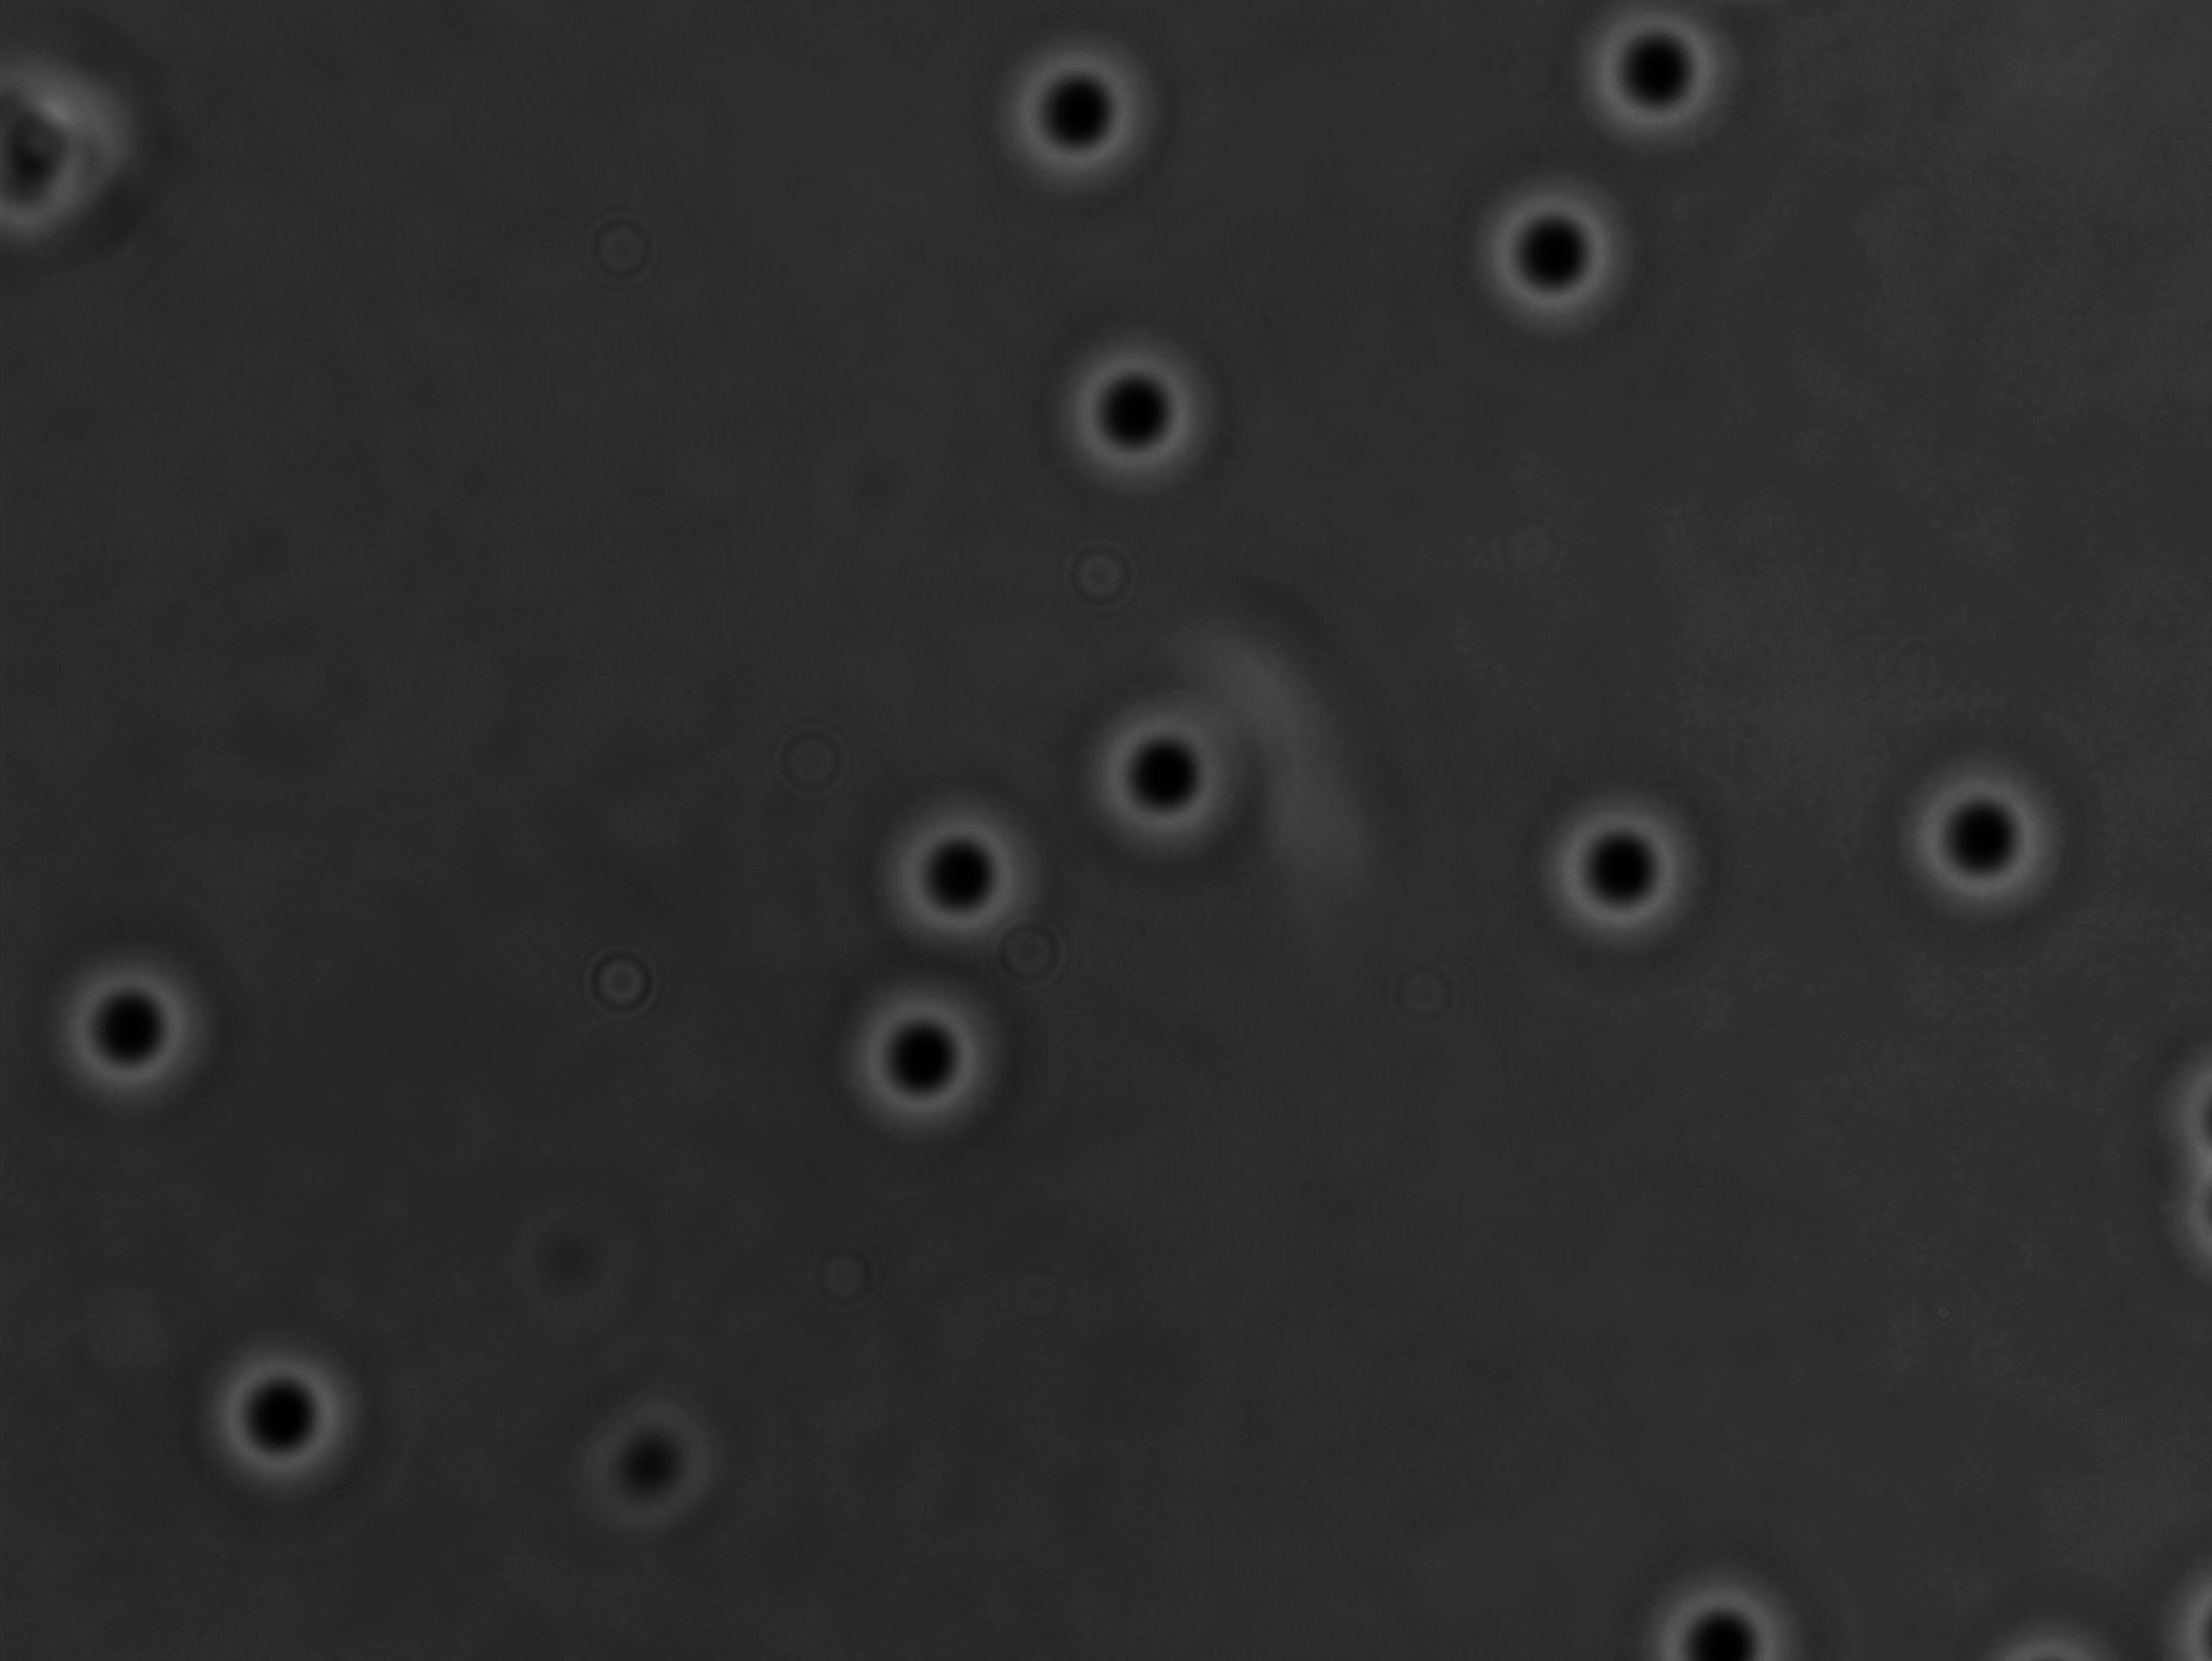depth:-80: (183, 1319, 382, 1514), (1525, 771, 1724, 967), (1895, 754, 2085, 947), (822, 974, 1021, 1159), (40, 935, 237, 1113), (872, 780, 1062, 963), (994, 16, 1176, 195), (1075, 686, 1260, 862), (1048, 325, 1235, 497), (1467, 167, 1628, 344)
